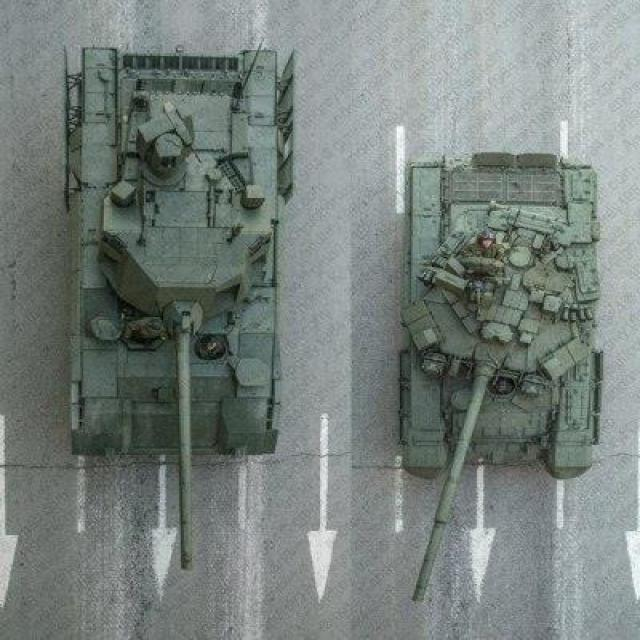Tanks: (46, 21, 324, 531), (362, 128, 612, 580)
